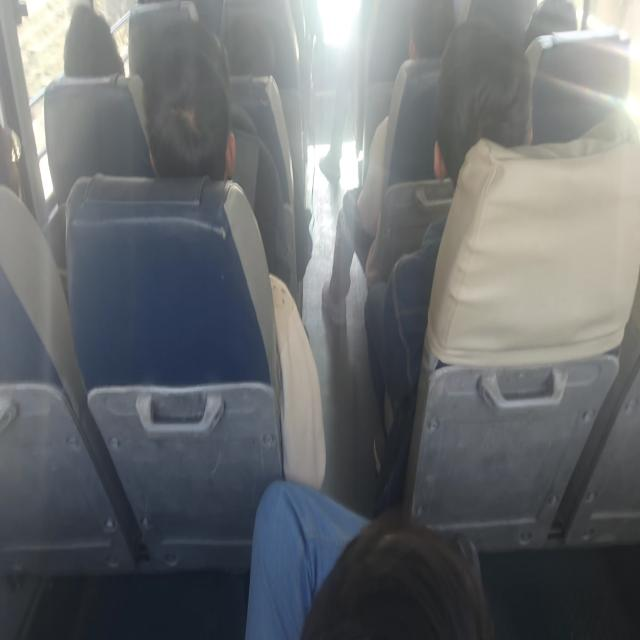person: (137, 17, 326, 489), (363, 17, 533, 511), (320, 0, 456, 325), (138, 18, 292, 291), (244, 478, 492, 638), (43, 2, 148, 204), (140, 18, 237, 181), (62, 2, 125, 78)
